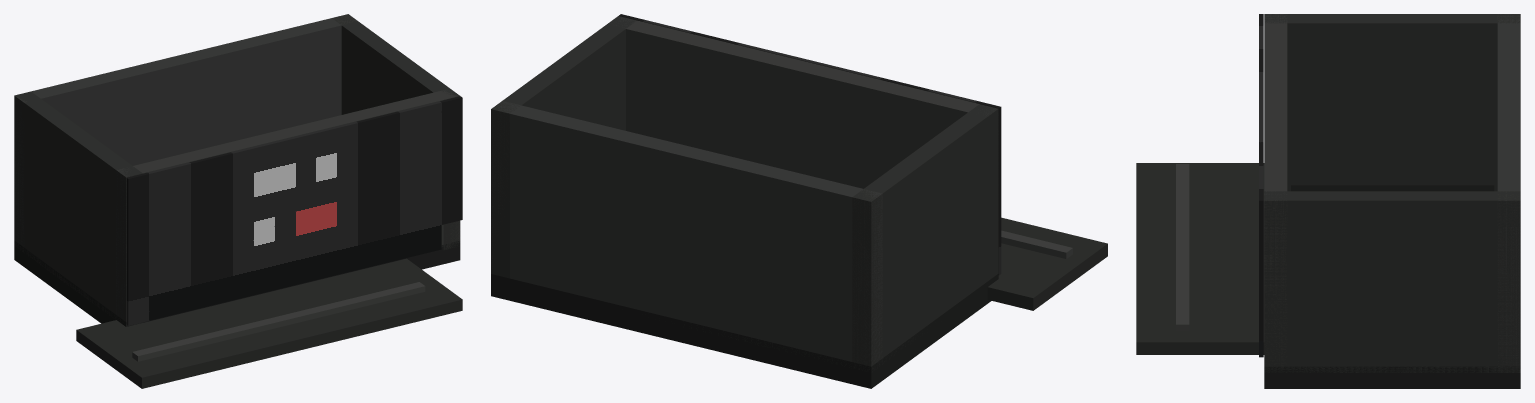
File: CMU3DCMPacketGrenadeHighExplosive.glb
The picture shows the model from 3 angles, left to right: view 1: azimuth 30°, elevation 25°; view 2: azimuth 150°, elevation 25°; view 3: azimuth 270°, elevation 25°; orthographic projection. The views are drawn at different scales.
Parts seen in each view (by area): view 1: Front source artwork, rear packet fold, packet side fold (×2), folded open flap, front packet wall, flap seam, dark packet bottom; view 2: rear packet fold, packet side fold (×2), front packet wall, dark packet bottom, folded open flap, Front source artwork, flap seam; view 3: packet side fold (×2), folded open flap, rear packet fold, dark packet bottom, front packet wall, flap seam, Front source artwork, empty dark interior.
Part boxes in pixels (<box>): Front source artwork: <box>126,96,462,325</box>; rear packet fold: <box>14,15,356,250</box>; packet side fold (×2): <box>14,14,460,326</box>; folded open flap: <box>76,258,462,388</box>; front packet wall: <box>116,89,460,318</box>; flap seam: <box>132,282,425,361</box>; dark packet bottom: <box>14,240,460,326</box>; rear packet fold: <box>491,101,882,369</box>; packet side fold (×2): <box>491,16,998,371</box>; front packet wall: <box>609,16,998,188</box>; dark packet bottom: <box>491,274,998,388</box>; folded open flap: <box>987,217,1107,310</box>; Front source artwork: <box>619,14,1001,275</box>; flap seam: <box>1001,230,1072,258</box>; packet side fold (×2): <box>1264,14,1520,372</box>; folded open flap: <box>1136,163,1264,354</box>; rear packet fold: <box>1497,14,1520,372</box>; dark packet bottom: <box>1264,189,1520,388</box>; front packet wall: <box>1264,14,1287,368</box>; flap seam: <box>1176,164,1189,330</box>; Front source artwork: <box>1259,14,1263,357</box>; empty dark interior: <box>1291,185,1494,191</box>.
Bounding box in the file's own units: 0.56 × 0.235 × 0.435.
8 materials, 1 textured.
